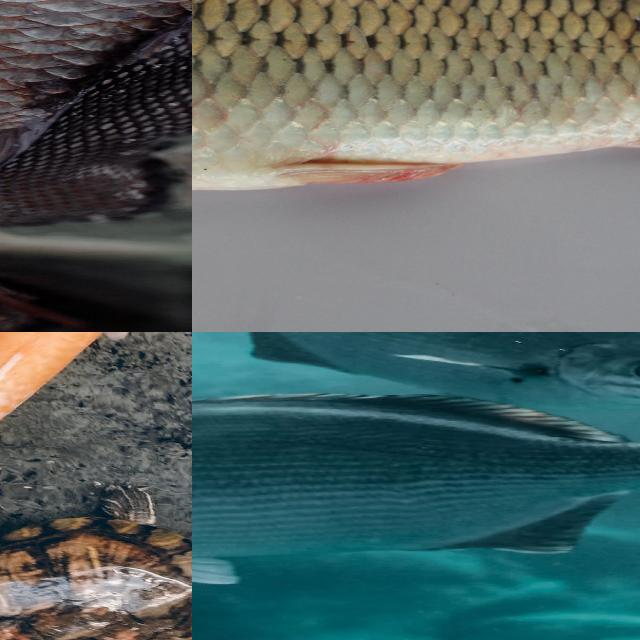fish: (192, 0, 640, 235), (0, 0, 192, 332), (192, 453, 581, 610)
